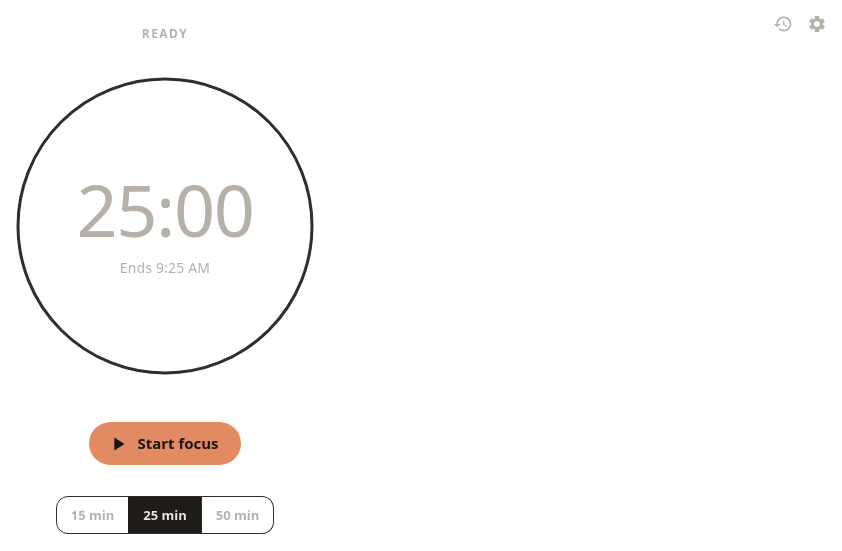
it: ZenFocusTimer › stops a session, abandons the plan and returns to idle
What coordinates should you click on to do the following:
click the button "Start focus"
I would click on:
 (165, 444)
Its box is x1=89 y1=422 x2=241 y2=465.
Wait 3000 ms
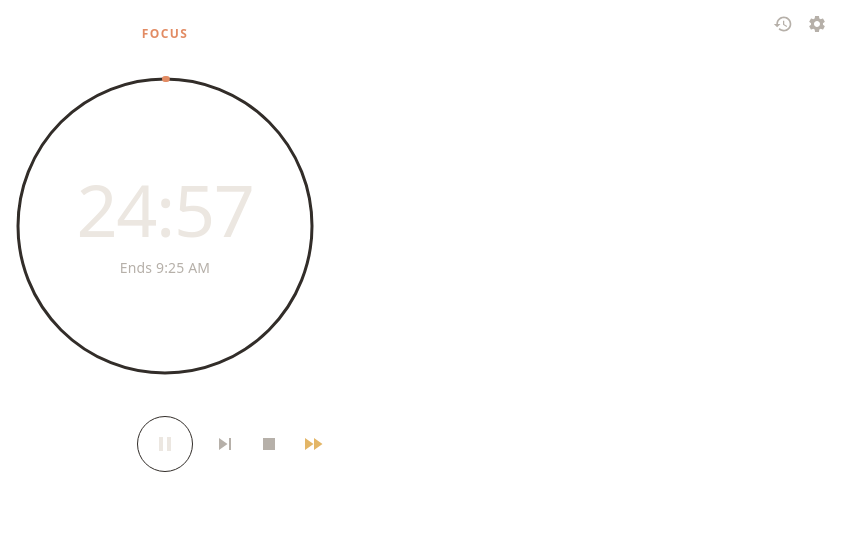
What coordinates should you click on to do the following:
click the button named "stop session"
I would click on:
 (269, 444)
Its box is x1=249 y1=424 x2=289 y2=464.
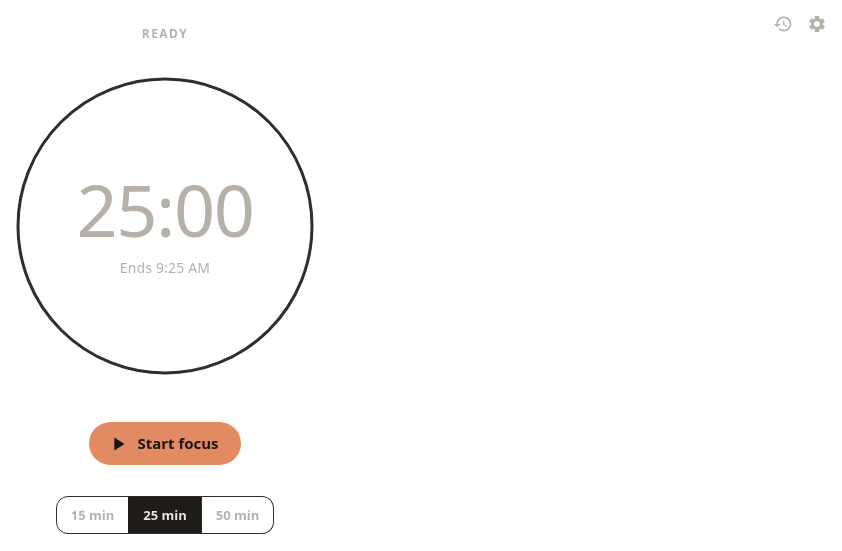
Expected: the text "Ready" is shown, x1=142 y1=25 x2=188 y2=44
Result: the button "Start focus" is shown at x1=89 y1=422 x2=241 y2=465
